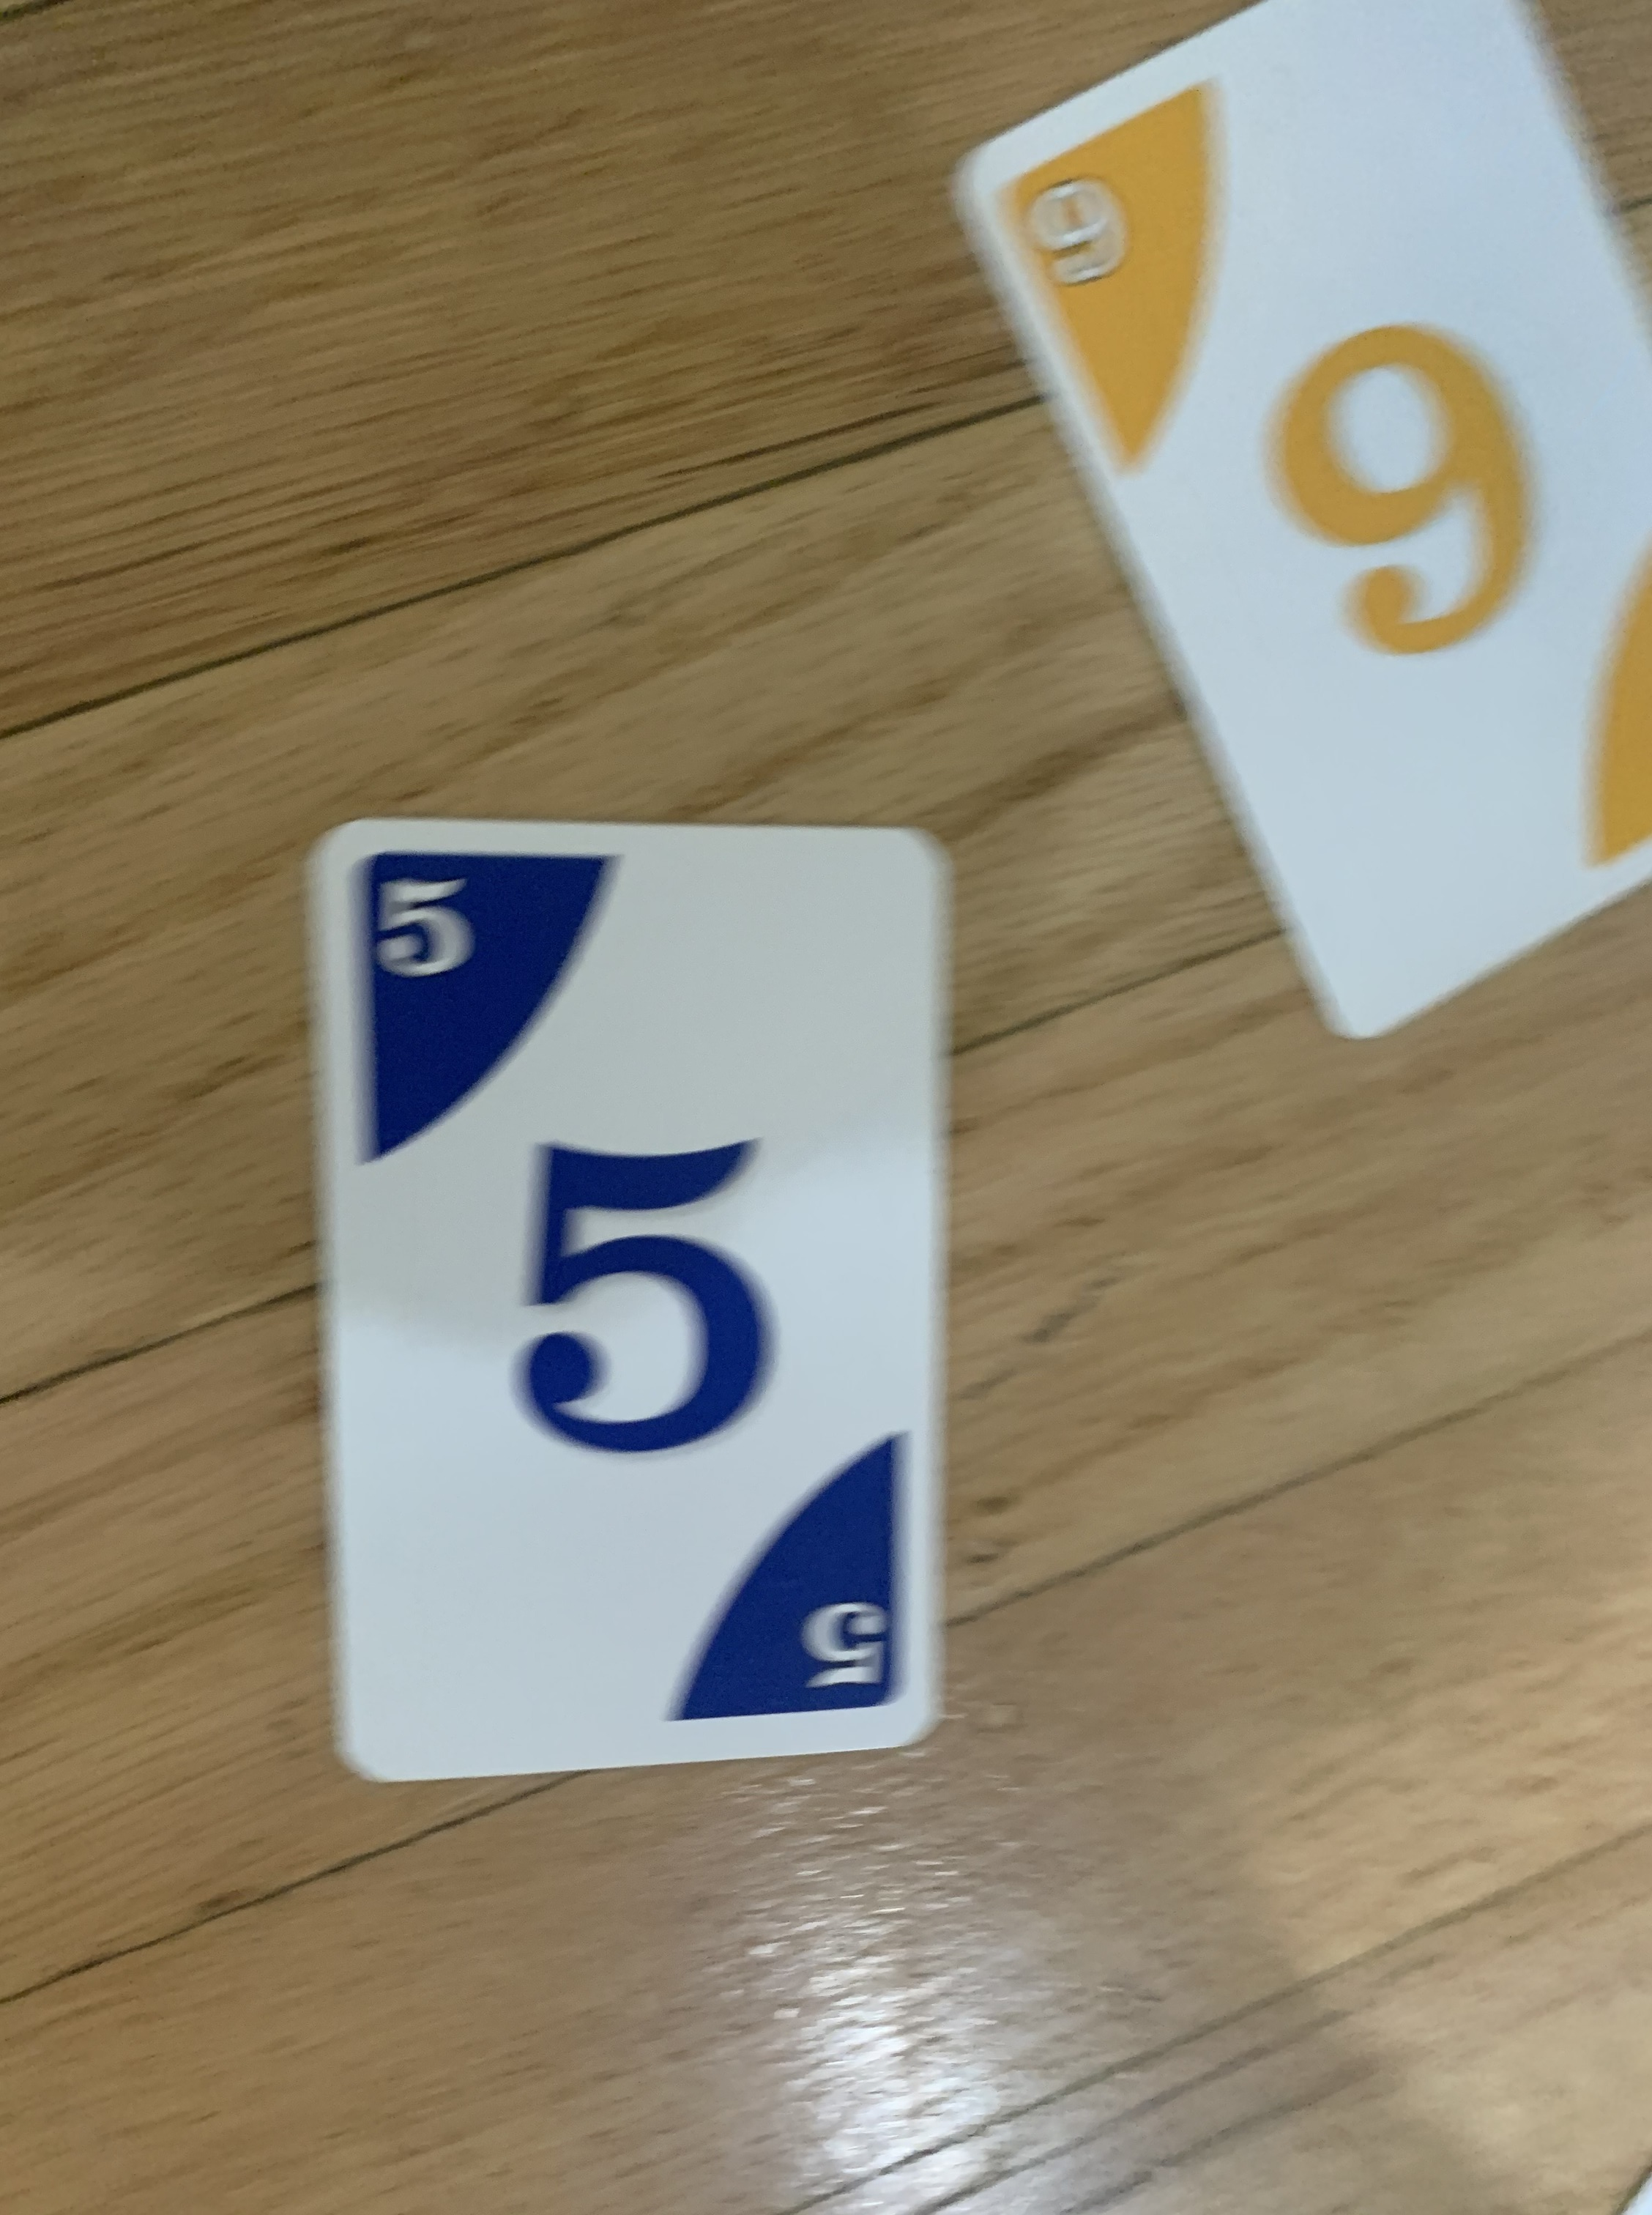five: (304, 812, 960, 1788)
nine: (947, 10, 1652, 1048)
